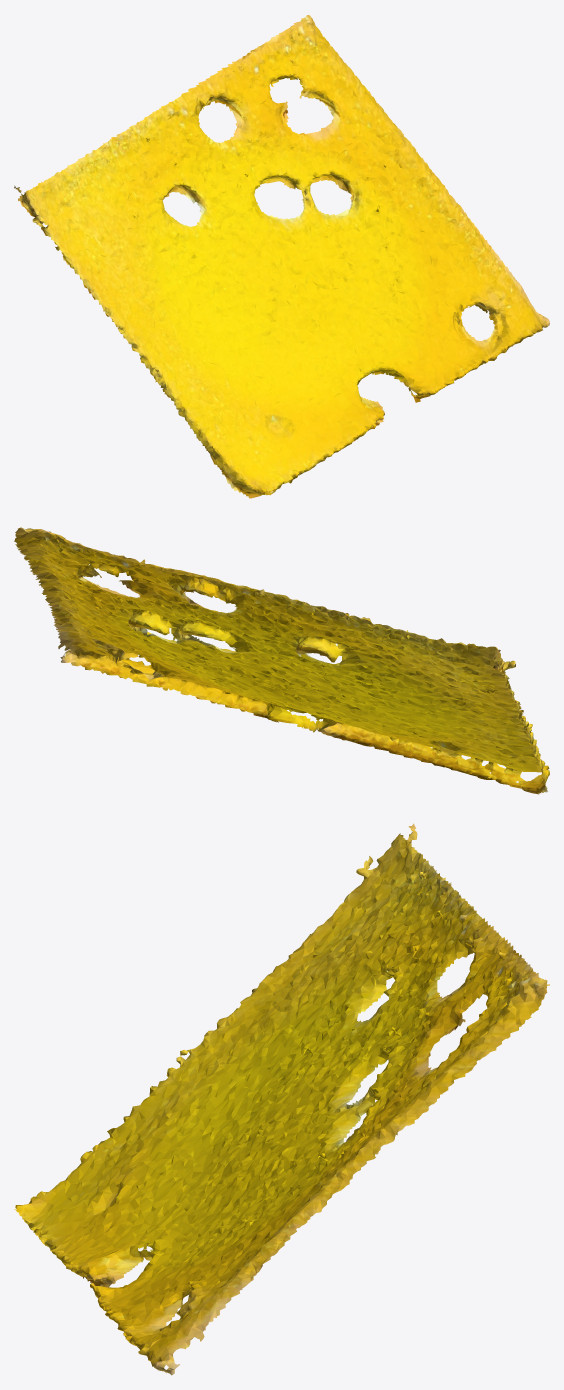
The model's file is Kaese_one_sided.fbx.
3 renders of one model, top to bottom at view 1: azimuth 30°, elevation 25°; view 2: azimuth 150°, elevation 25°; view 3: azimuth 270°, elevation 25°, orthographic. The views are drawn at different scales.
Visible parts, largest first — view 1: Kaese one sided_tex_high; view 2: Kaese one sided_tex_high; view 3: Kaese one sided_tex_high.
Part boxes in pixels (box(x1,y1,x2,y2)): Kaese one sided_tex_high: box(14, 15, 549, 498); Kaese one sided_tex_high: box(14, 527, 549, 794); Kaese one sided_tex_high: box(14, 823, 549, 1375).
Size of the model in its own units: 12.14 by 7.64 by 9.19.
